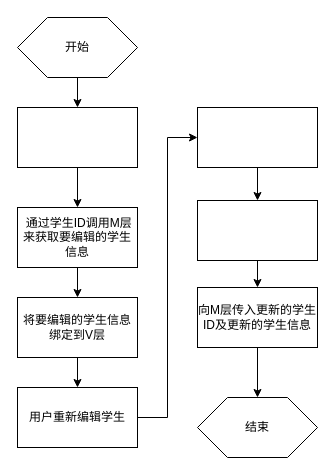
Some shapes in this 335 by 475 pixel diagram are drawn without their labels. The shapes that lost their labels are listed below. From the top down, each one's centre as x and y in pixels, then its label:
At (x=77, y=137): "通过路由获取要编辑的学生ID".
At (x=257, y=137): "用户编辑完毕点击保存按钮".
At (x=257, y=230): "获取编辑后的学生信息".
